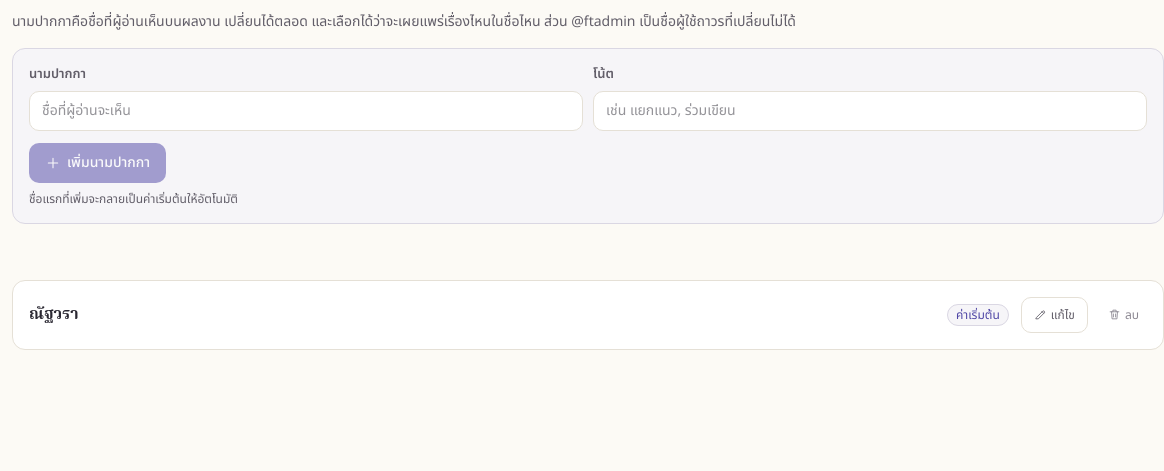
Test: the pen names panel › states that deleting a pen name deletes no work, and asks first
This screenshot has width=1164, height=471.
Check: the button "ยืนยันลบนามปากกา" is not shown
What coordinates should you click on to do the following:
click the button with aria-label "ลบ ณัฐวรา"
I would click on:
 (1123, 314)
Its box is [1100,296,1147,332].
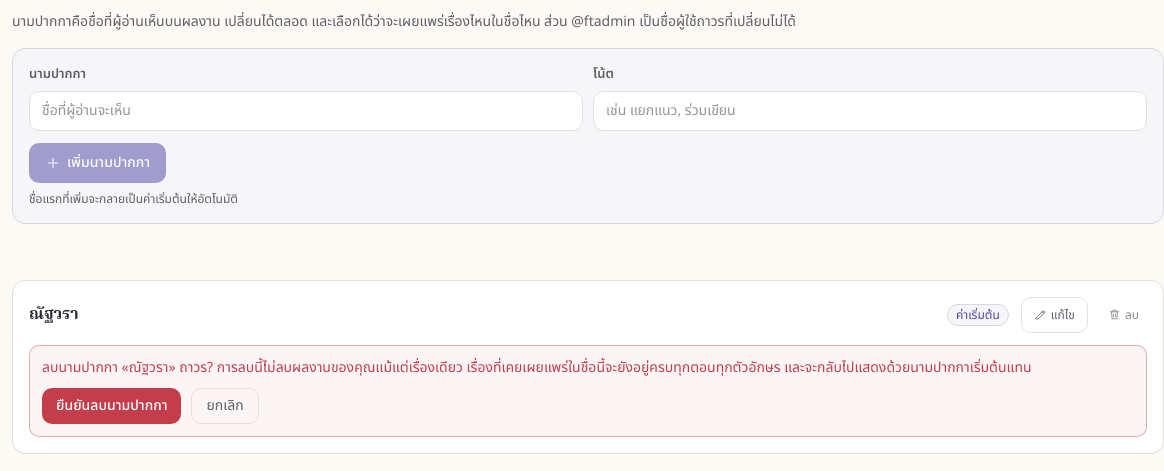
Check: the text "ลบนามปากกา «ณัฐวรา» ถาวร?" shows "การลบนี้ไม่ลบผลงานของคุณแม้แต่เรื่องเดียว", box [168,356,1032,378]
Check: the text "ลบนามปากกา «ณัฐวรา» ถาวร?" shows "เรื่องที่เคยเผยแพร่ในชื่อนี้จะยังอยู่ครบทุกตอนทุกตัวอักษร", box [168,356,1032,378]
Check: the text "ลบนามปากกา «ณัฐวรา» ถาวร?" shows "จะกลับไปแสดงด้วยนามปากกาเริ่มต้นแทน", box [168,356,1032,378]
Note: Backing out deletes nothing at all.
What coordinates should you click on to do the following:
click the button "ยกเลิก"
I would click on:
 (225, 406)
Its box is [192,388,259,424].
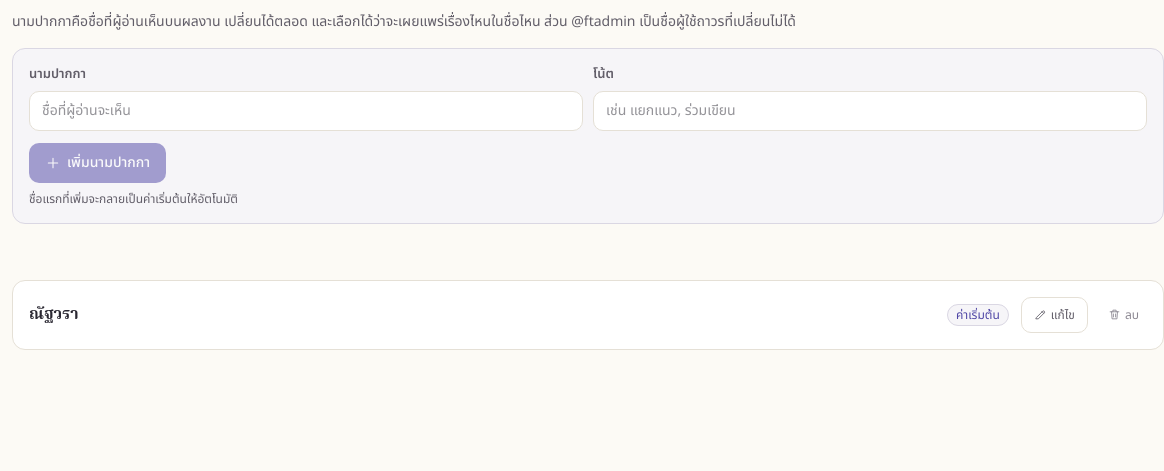
Check: the text "ณัฐวรา" is shown, box [29,302,79,328]
What coordinates should you click on to do the following:
click the button with aria-label "ลบ ณัฐวรา"
I would click on:
 (1123, 314)
Its box is [1100,296,1147,332].
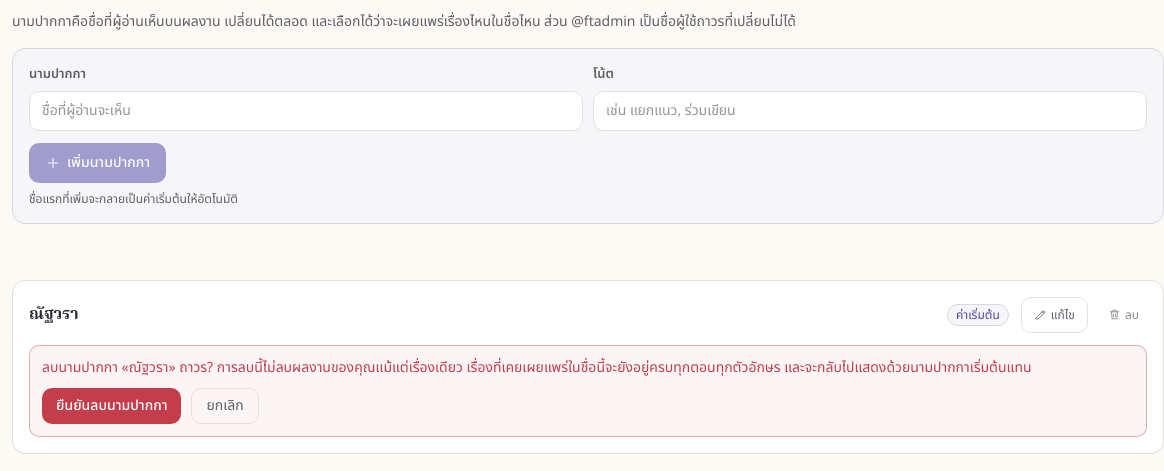
What coordinates should you click on to do the following:
click the button "ยืนยันลบนามปากกา"
I would click on:
 (112, 406)
Its box is [42,388,182,424].
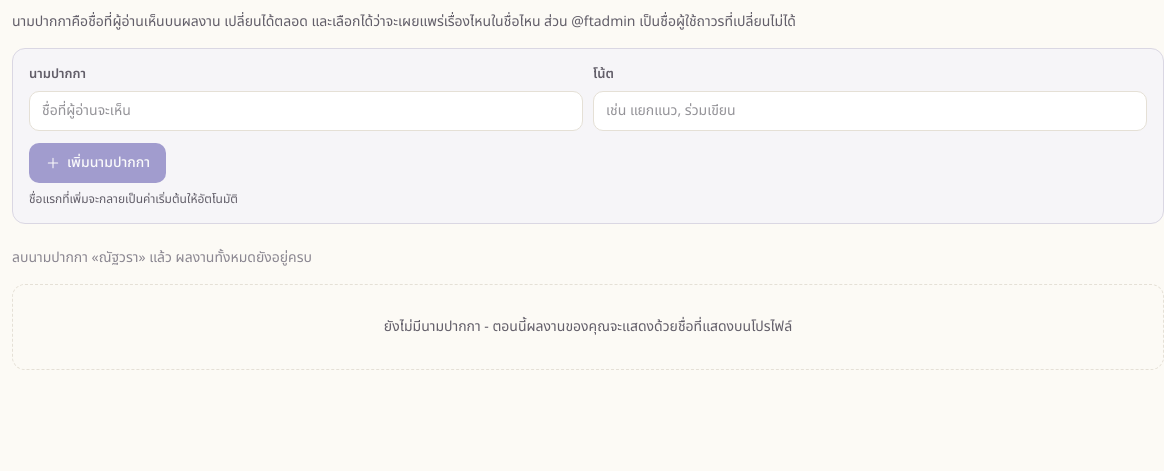
Check: the message shows "ผลงานทั้งหมดยังอยู่ครบ", box [12,246,312,268]
